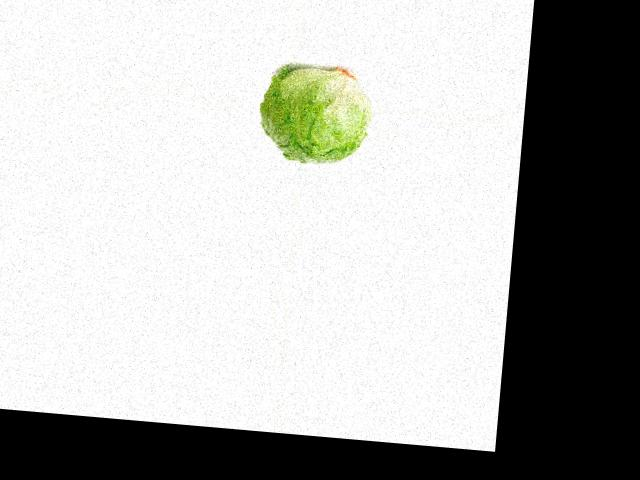lettuce: (256, 64, 368, 168)
